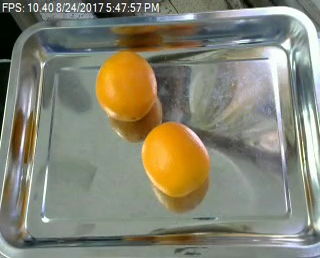Orange: (141, 120, 210, 197), (95, 51, 157, 122)
